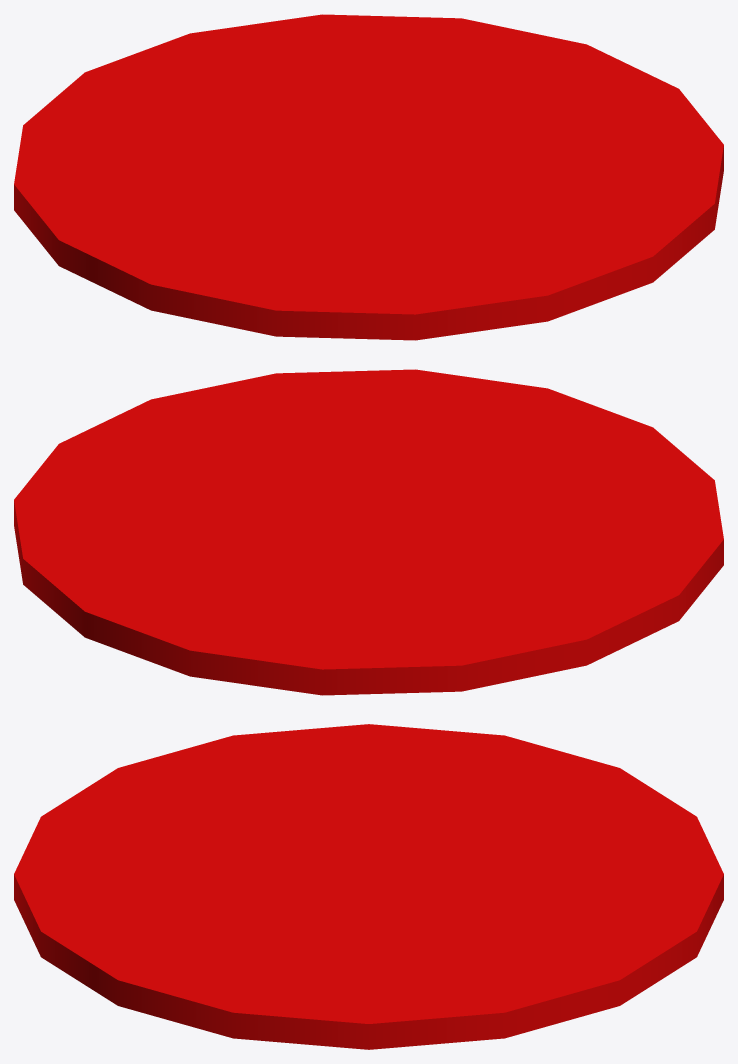
File: coin.fbx
3 views of the same model, one above another, from view 1: azimuth 30°, elevation 25°; view 2: azimuth 150°, elevation 25°; view 3: azimuth 270°, elevation 25° (orthographic).
Visible parts, largest first — view 1: coin_low.001; view 2: coin_low.001; view 3: coin_low.001.
Boxes of the visible parts, left/top/right/bottom form: coin_low.001: left=14, top=14, right=723, bottom=340; coin_low.001: left=14, top=369, right=723, bottom=695; coin_low.001: left=14, top=724, right=723, bottom=1049.
Bounding box in the file's own units: 5 × 0.2 × 5.
